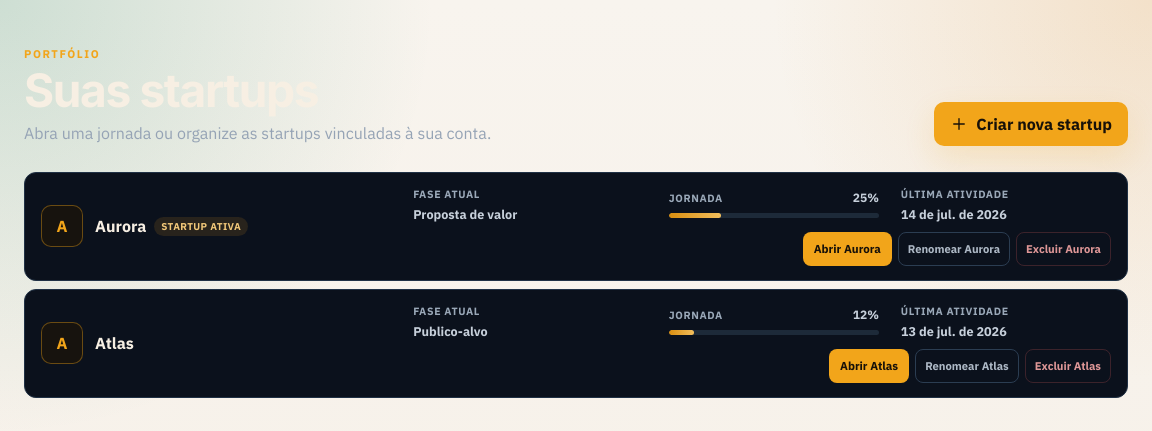
Test: StartupManagerScreen › renames inline and keeps a returned error in the originating row
Step 1. Click the button "Renomear Aurora" → (954, 249), box [898, 232, 1010, 266]
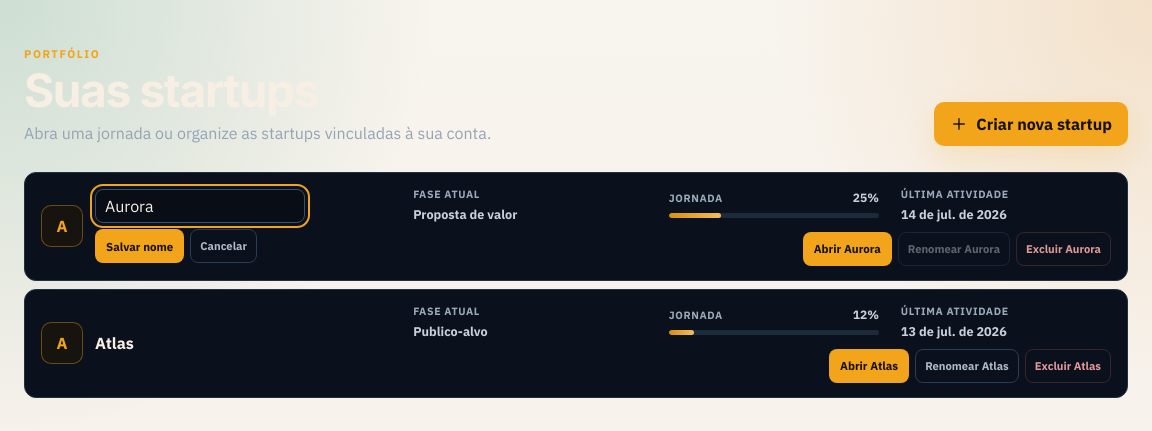
Step 2. Replace the text in the field named "Novo nome de Aurora" with "Aurora Labs" → (200, 206), box [95, 189, 305, 223]
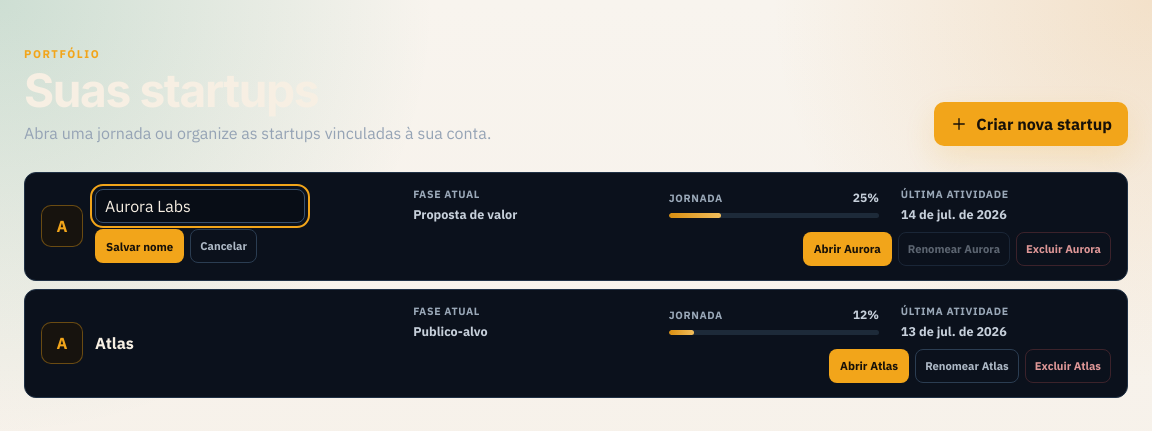
Step 3. Click the button "Salvar nome" → (140, 246), box [95, 229, 184, 263]
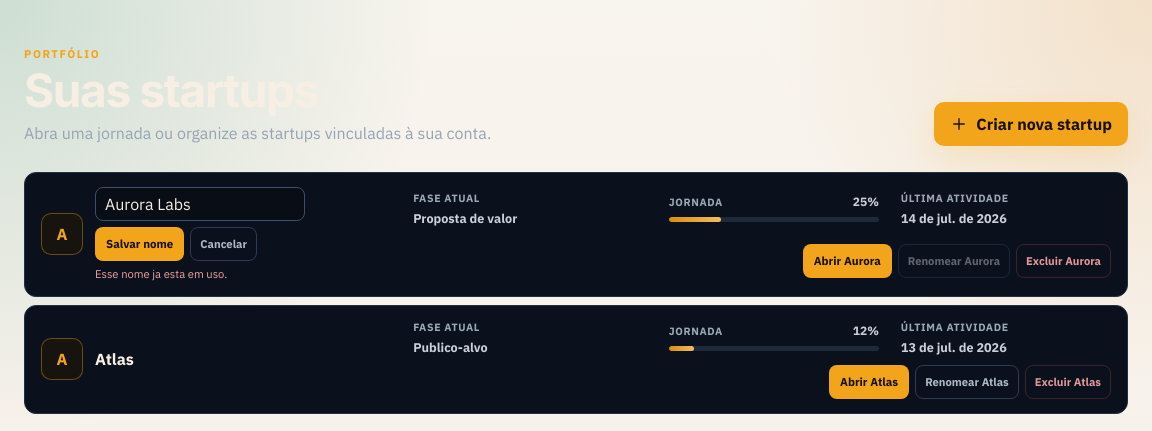
Check: the message reads "Esse nome ja esta em uso.", box [95, 267, 227, 281]
